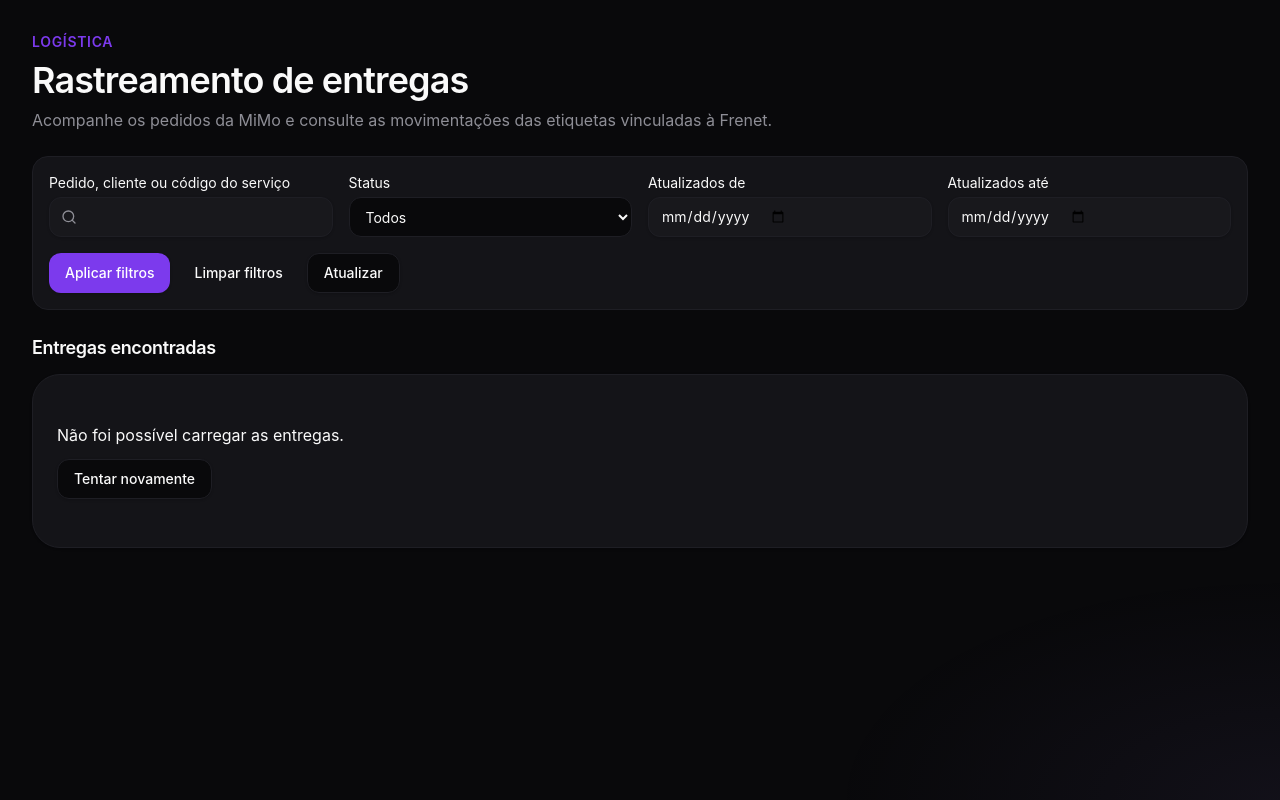
Test: cobre carregamento, erro recuperável e vazio
Later steps or results of the test are not shown.
Check: the message "Não foi possível carregar as entregas." is shown, box [57,423,344,447]
Click the button "Tentar novamente" at x=135, y=479, box [57,459,212,499]
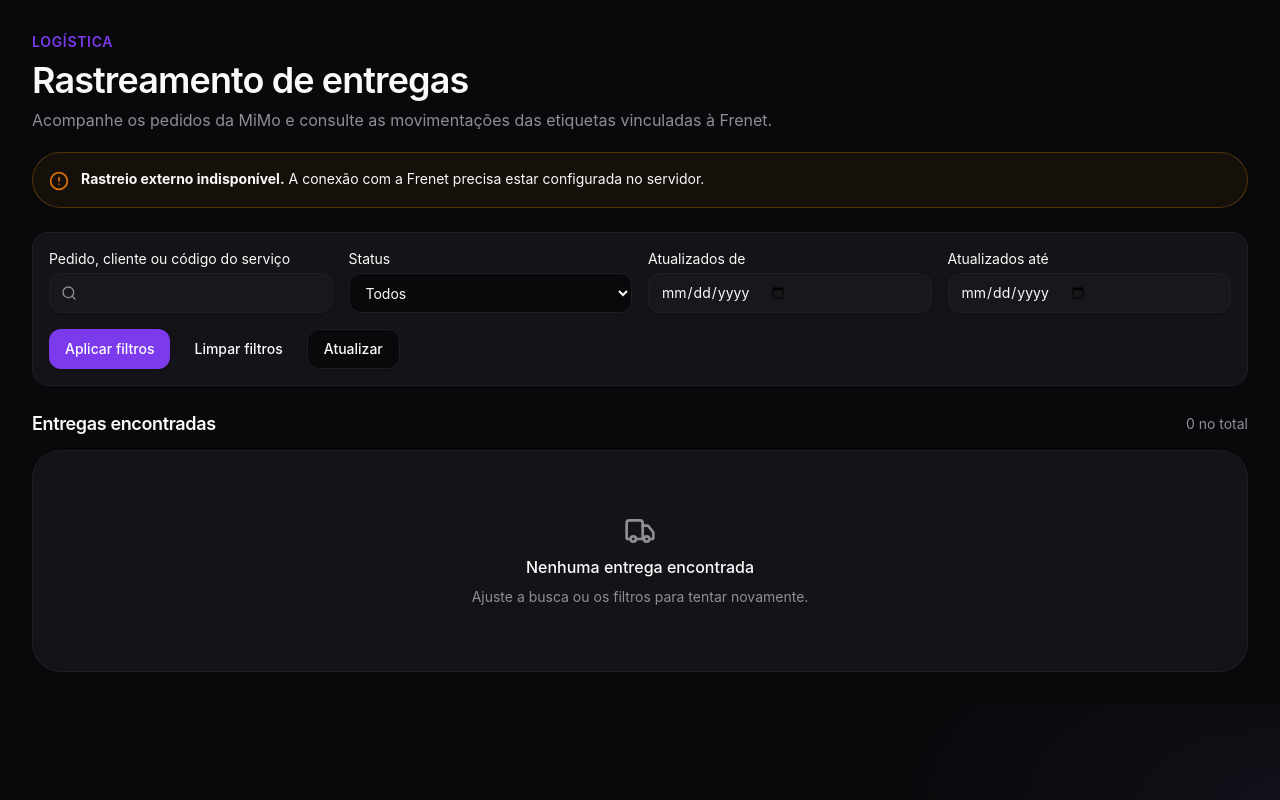
Check: the text "Nenhuma entrega encontrada" is shown, box [526,555,754,579]
